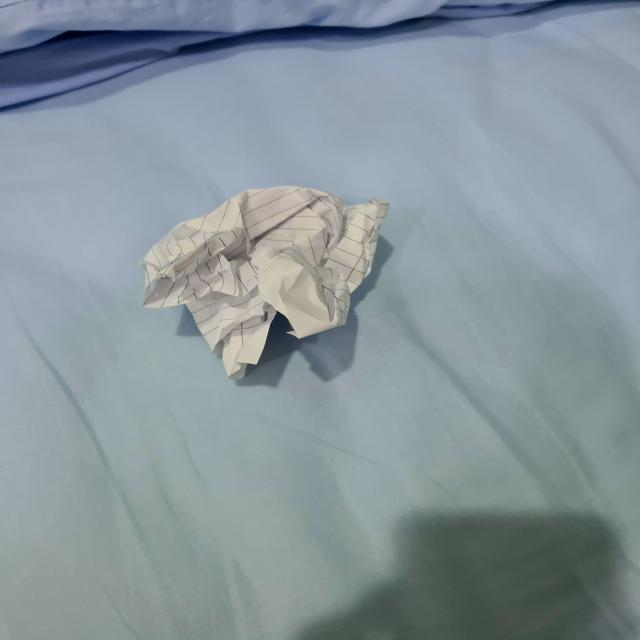Paper: (134, 172, 411, 392)
